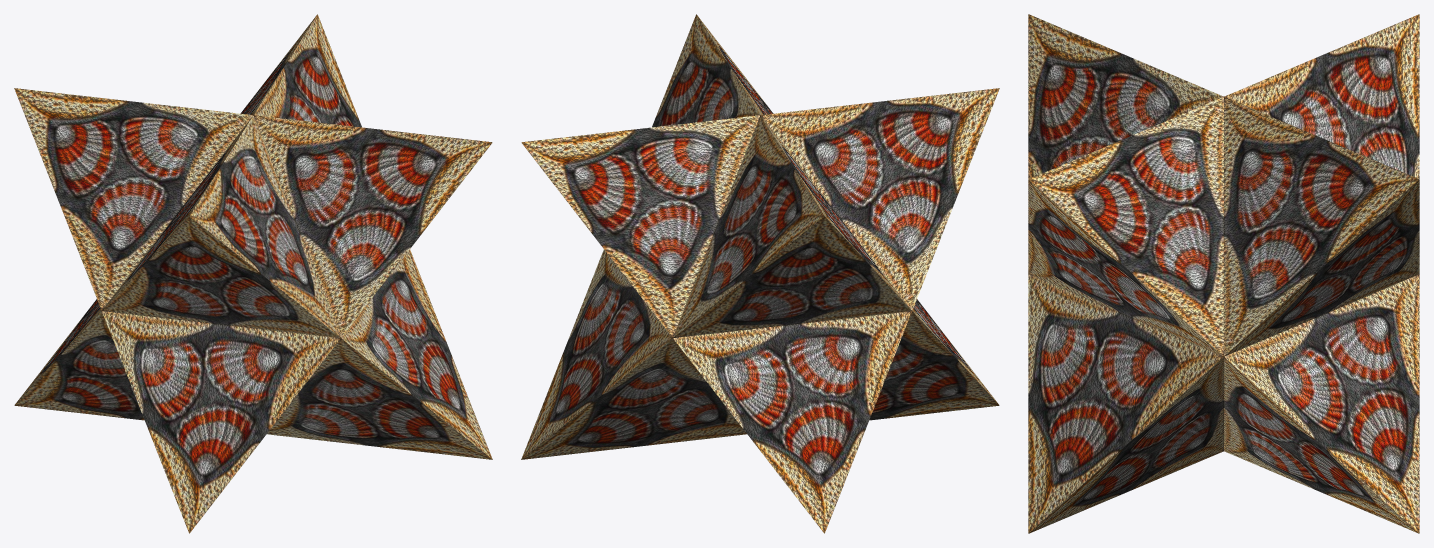
The model's file is StellaOctangula3.obj.
3 views of the same model, side by side, from view 1: azimuth 30°, elevation 25°; view 2: azimuth 150°, elevation 25°; view 3: azimuth 270°, elevation 25° (orthographic). The views are drawn at different scales.
Size of the model in its own units: 0.7071 by 0.7071 by 0.7071.
1 material, 1 textured.
